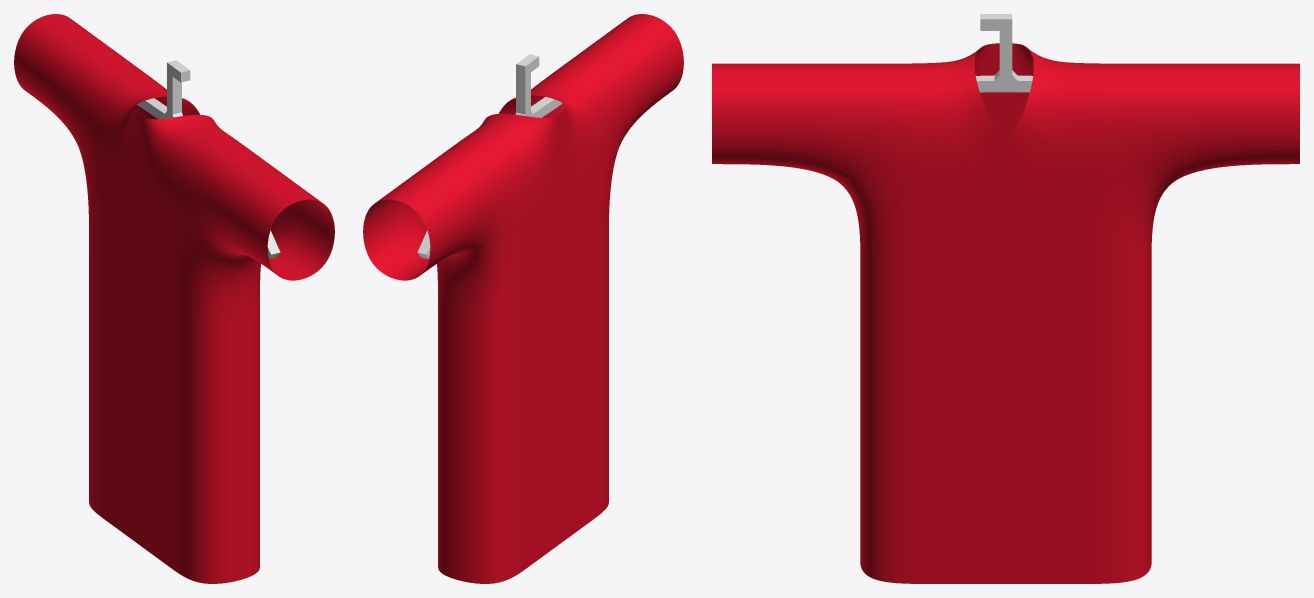
File: tshirt-680b581ed6415.glb
3 renders of one model, left to right at view 1: azimuth 30°, elevation 25°; view 2: azimuth 150°, elevation 25°; view 3: azimuth 270°, elevation 25°, orthographic. The views are drawn at different scales.
Parts seen in each view (by area): view 1: Cube.001, Vert; view 2: Cube.001, Vert; view 3: Cube.001, Vert.
Part boxes in pixels (x1=…): Cube.001: x1=14, y1=14, x2=334, y2=583; Vert: x1=137, y1=60, x2=280, y2=259; Cube.001: x1=363, y1=14, x2=683, y2=583; Vert: x1=417, y1=54, x2=562, y2=259; Cube.001: x1=712, y1=43, x2=1299, y2=583; Vert: x1=975, y1=14, x2=1032, y2=92.
Bounding box in the file's own units: 0.66 × 4.06 × 3.95.
